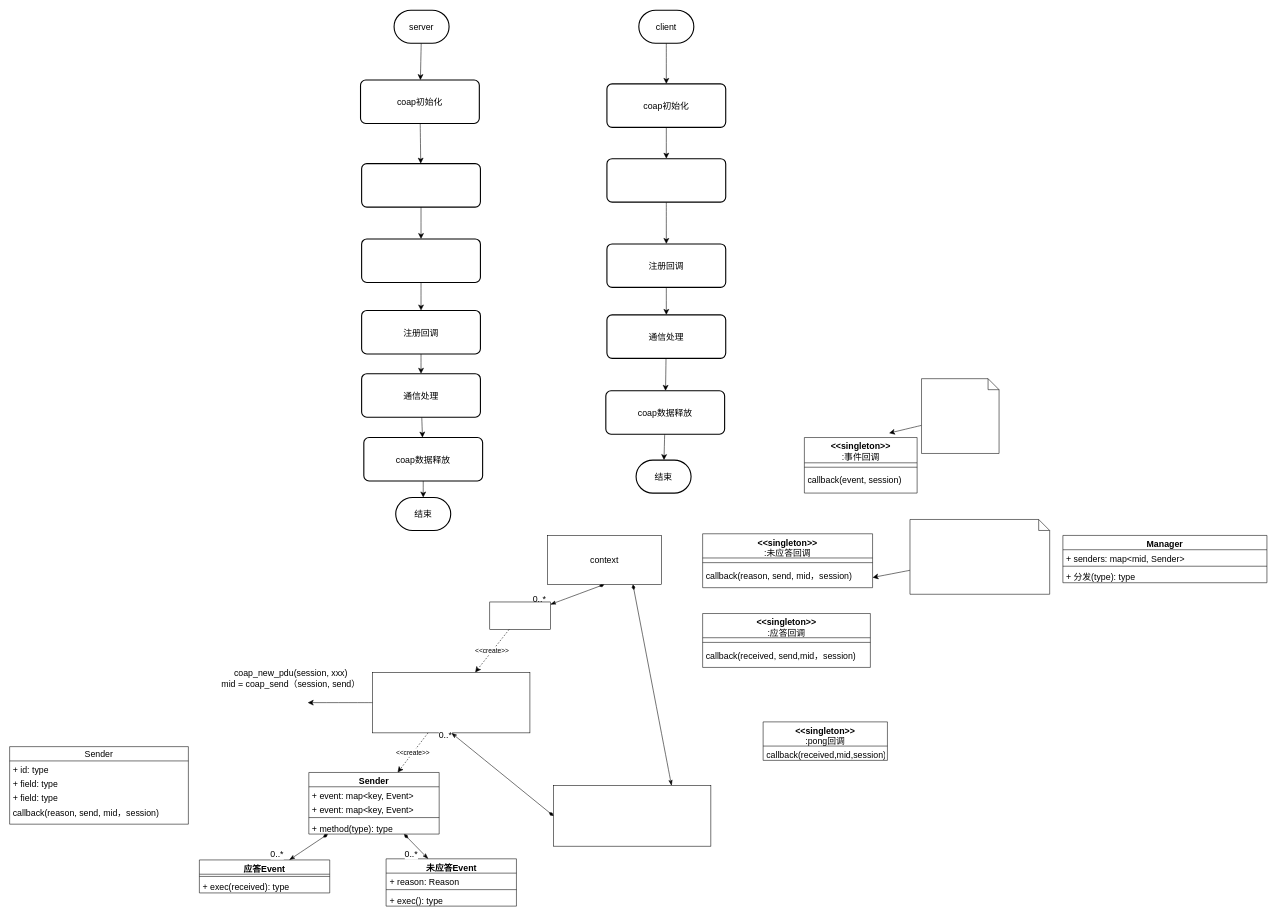
The diagram is 1277 pixels wide and 917 high, and some of its shapes have lost their labels. The centre of each missing label's shape, as x and y in pixels:
"enum - 断连 - 丢包 - 握手超时 ..." goes at (960,415).
"enum(reason) - 连接关闭 - 丢包 ..." goes at (979,556).
"io（server） coap_regsite(cxt, callbac)" goes at (632,815).
"send" goes at (451,702).
"session" goes at (519,615).
"创建会话" goes at (666,180).
"创建网络节点" goes at (421,185).
"资源初始化" goes at (421,260).
